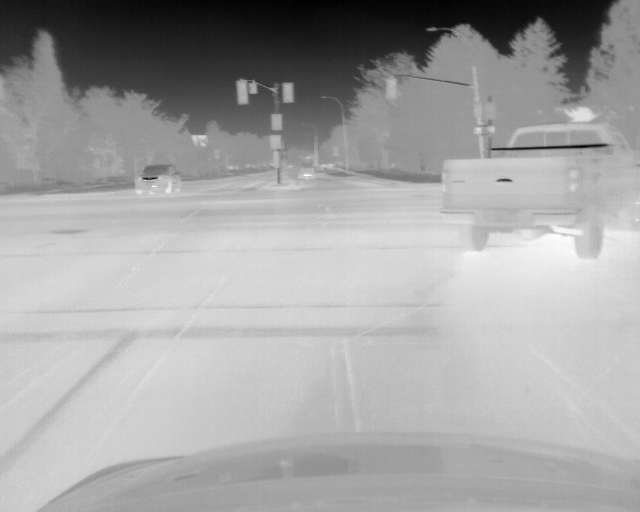car: (441, 121, 640, 259), (135, 163, 181, 194), (297, 163, 316, 181)
